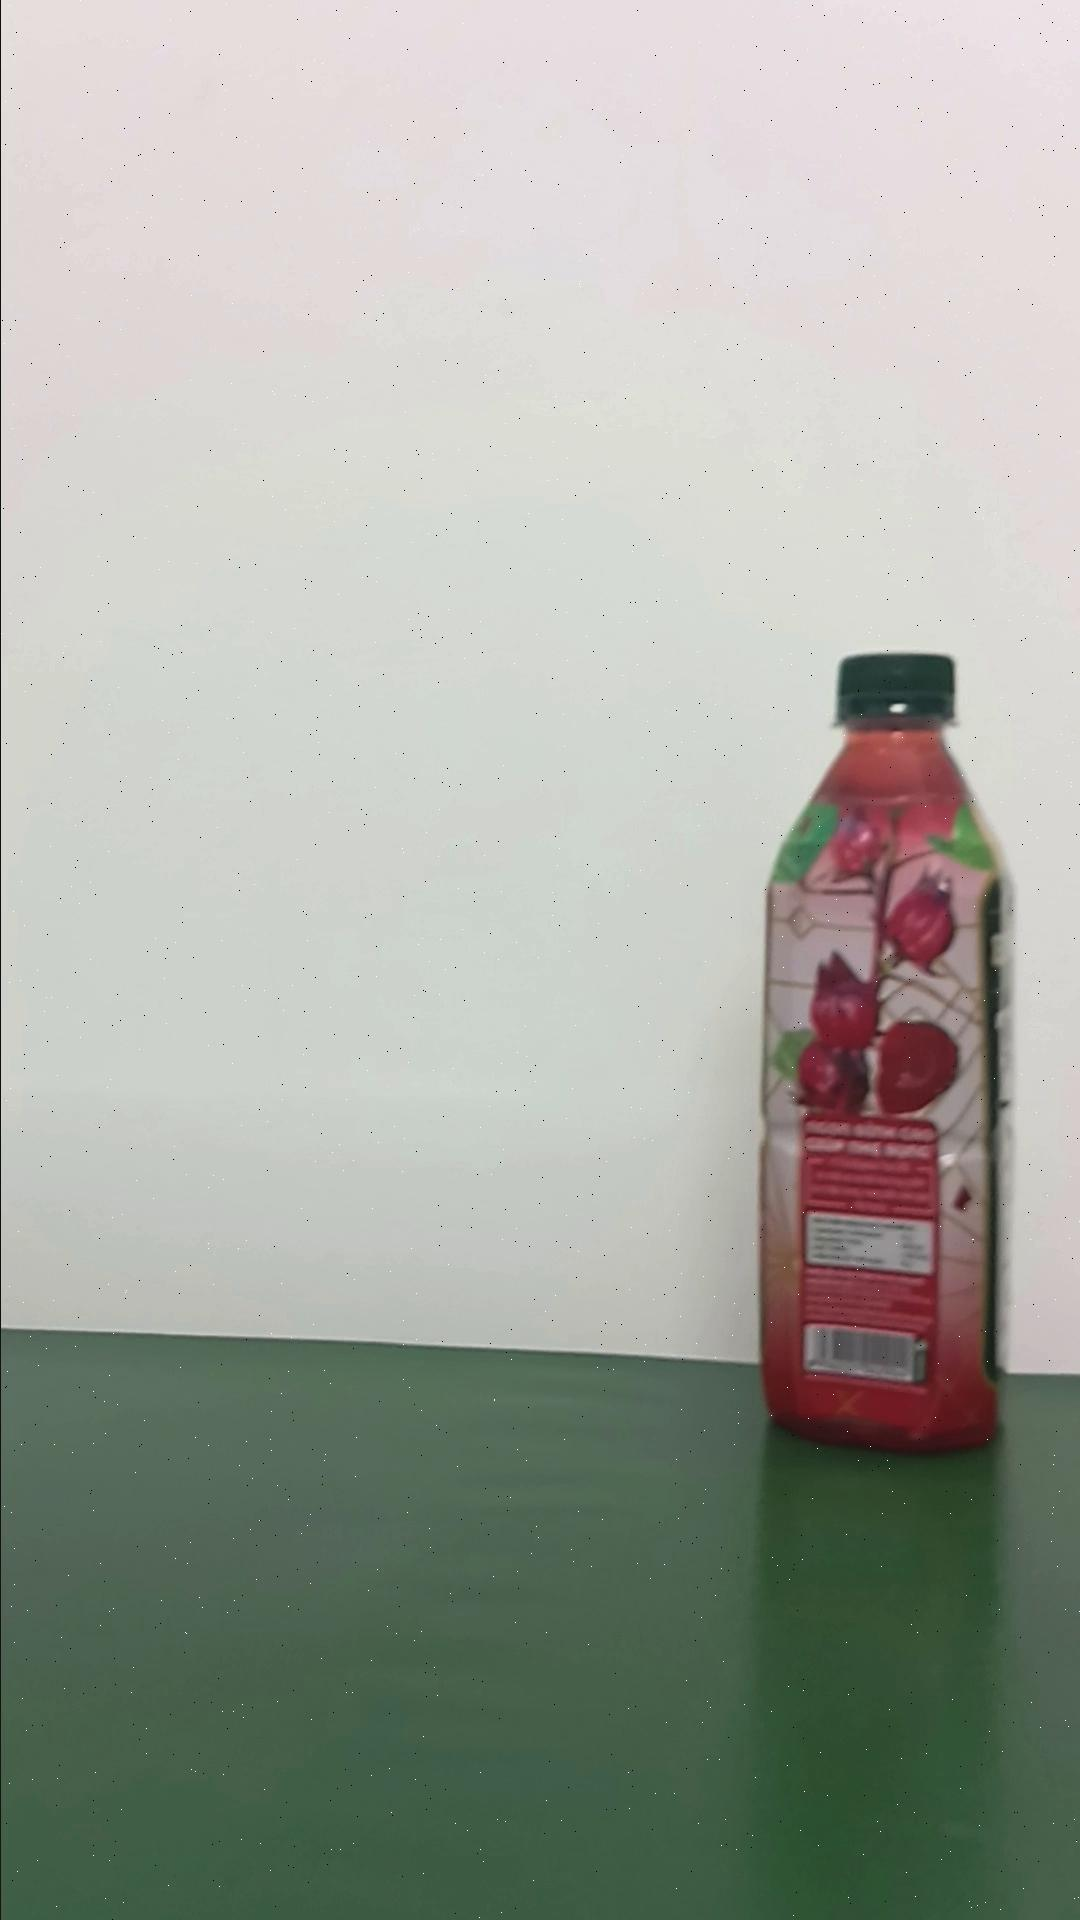loi rach va lap chai: (756, 646, 1015, 1465)
